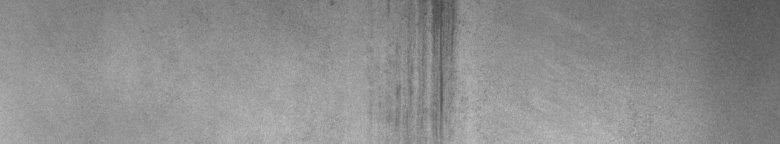ka: (388, 4, 464, 135)
